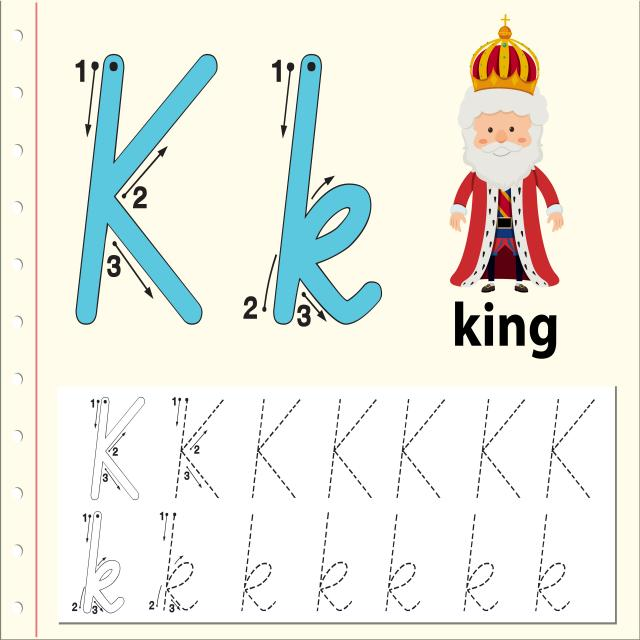K: (244, 390, 310, 510), (453, 291, 477, 365)
